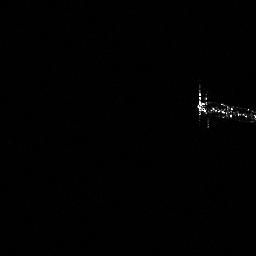ship: (198, 98, 256, 116)
